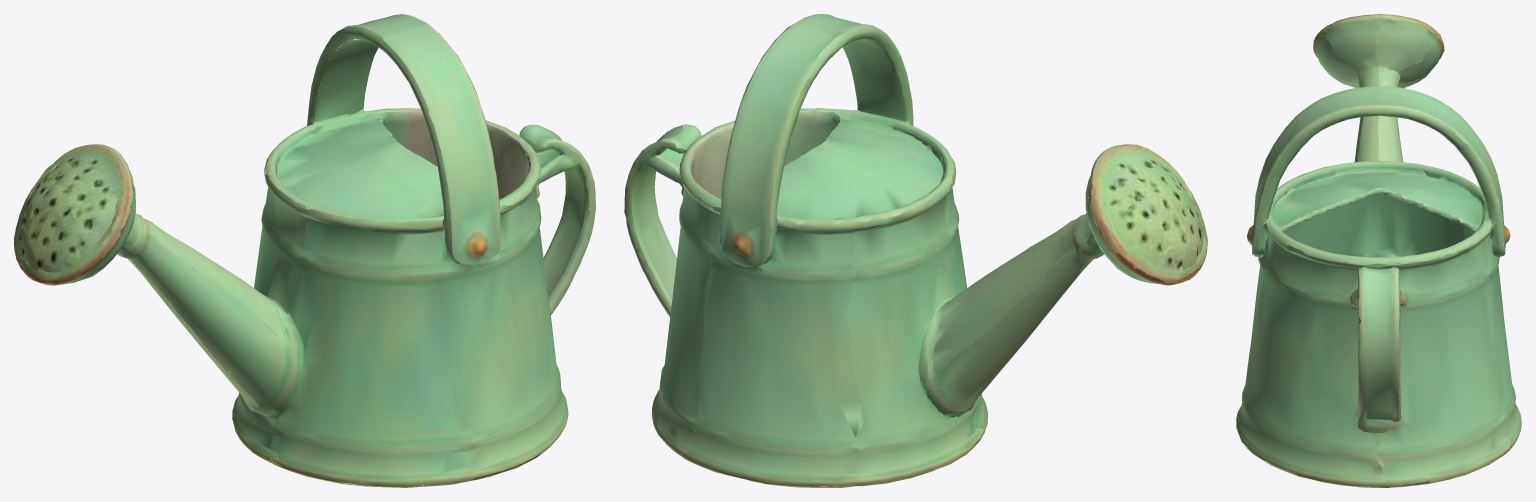
Rendered from can.glb.
The picture shows the model from 3 angles, left to right: view 1: azimuth 30°, elevation 25°; view 2: azimuth 150°, elevation 25°; view 3: azimuth 270°, elevation 25°; orthographic projection. The views are drawn at different scales.
Parts seen in each view (by area): view 1: textured_mesh.obj; view 2: textured_mesh.obj; view 3: textured_mesh.obj.
Boxes of the visible parts, bbox=[...] form: textured_mesh.obj: bbox=[14, 14, 595, 487]; textured_mesh.obj: bbox=[624, 14, 1207, 487]; textured_mesh.obj: bbox=[1236, 14, 1521, 487].
Bounding box in the file's own units: 1.5 × 1 × 0.7744.
1 material, 1 textured.
